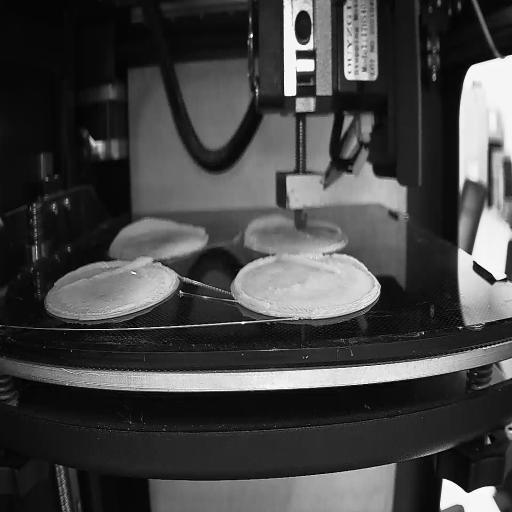over_extrusion: (62, 252, 154, 292), (116, 214, 206, 244), (233, 254, 277, 309), (282, 252, 368, 275), (244, 212, 286, 246)
